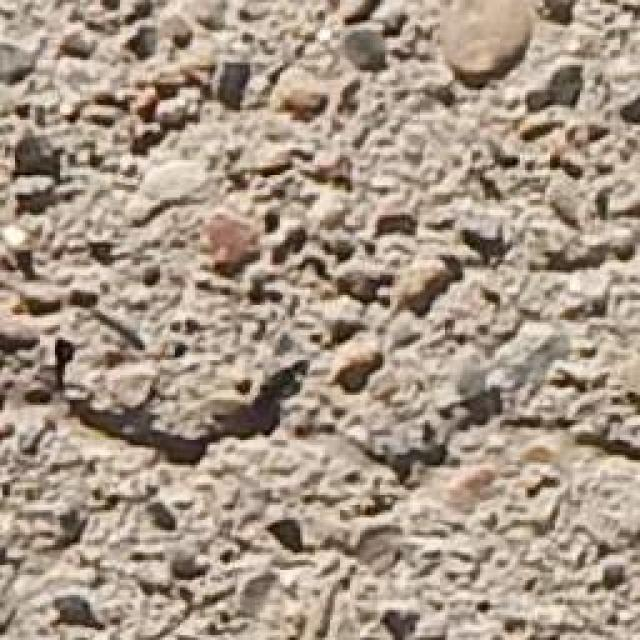concrete-crack: (29, 219, 640, 482), (298, 386, 640, 504)
